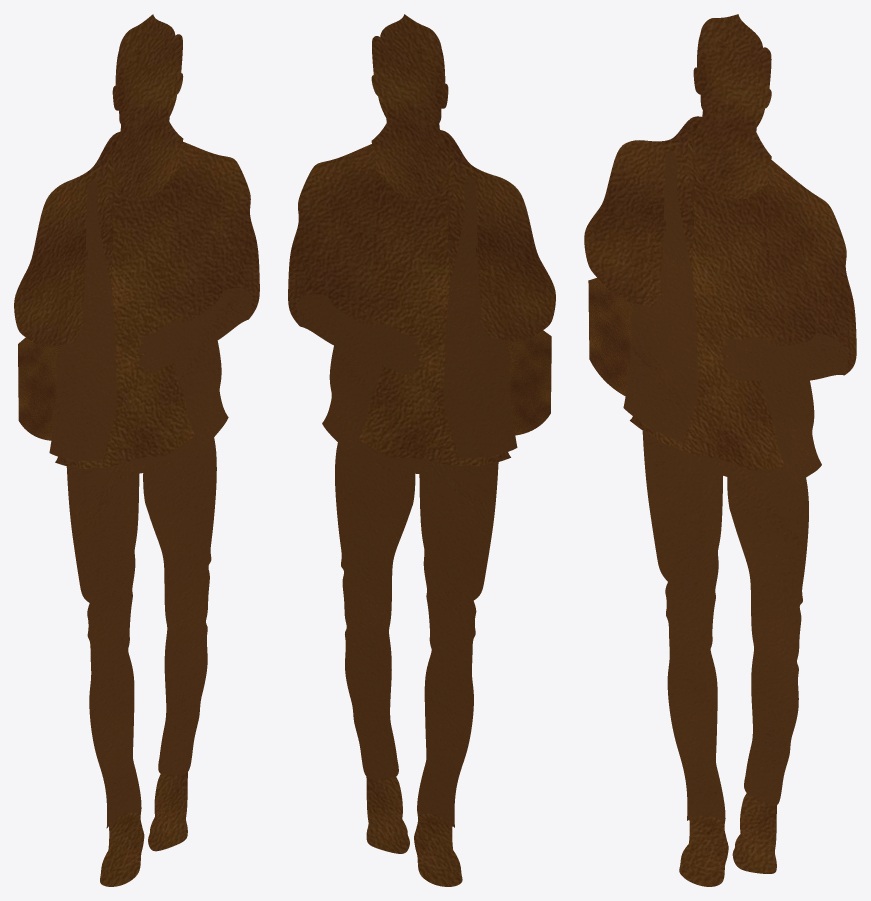
3 renders of one model, left to right at view 1: azimuth 30°, elevation 25°; view 2: azimuth 150°, elevation 25°; view 3: azimuth 330°, elevation 25°, orthographic. The views are drawn at different scales.
Parts seen in each view (by area): view 1: Component_2; view 2: Component_2; view 3: Component_2.
Boxes of the visible parts, <box> form: Component_2: <box>14,14,259,886</box>; Component_2: <box>288,14,555,886</box>; Component_2: <box>584,14,856,886</box>.
Bounding box in the file's own units: 21.53 × 69.17 × 1.55.
1 material, 1 textured.
